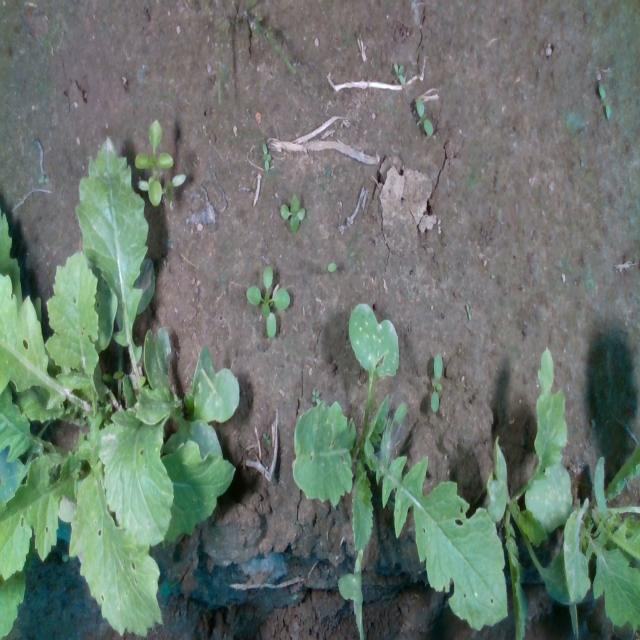weed: (279, 191, 305, 235), (414, 96, 434, 137), (430, 351, 442, 413), (597, 79, 611, 122), (392, 60, 405, 86), (261, 142, 271, 172), (465, 301, 472, 323)
